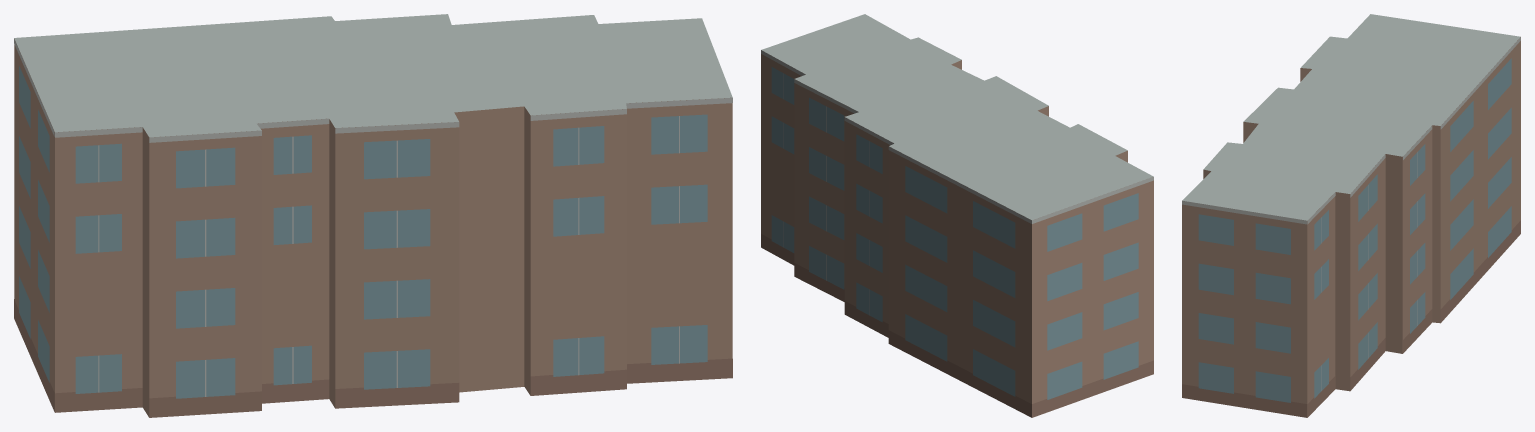
File: survey-upis-32526358.glb
3 renders of one model, left to right at view 1: azimuth 30°, elevation 25°; view 2: azimuth 150°, elevation 25°; view 3: azimuth 270°, elevation 25°, orthographic. The views are drawn at different scales.
Parts seen in each view (by area): view 1: survey-upis-32526358.tmp; view 2: survey-upis-32526358.tmp; view 3: survey-upis-32526358.tmp.
Boxes of the visible parts, x1,y1,x2,y2 form: survey-upis-32526358.tmp: (14, 14, 732, 417); survey-upis-32526358.tmp: (761, 14, 1153, 417); survey-upis-32526358.tmp: (1182, 14, 1520, 417).
Size of the model in its own units: 28.1 by 12.5 by 19.47.
